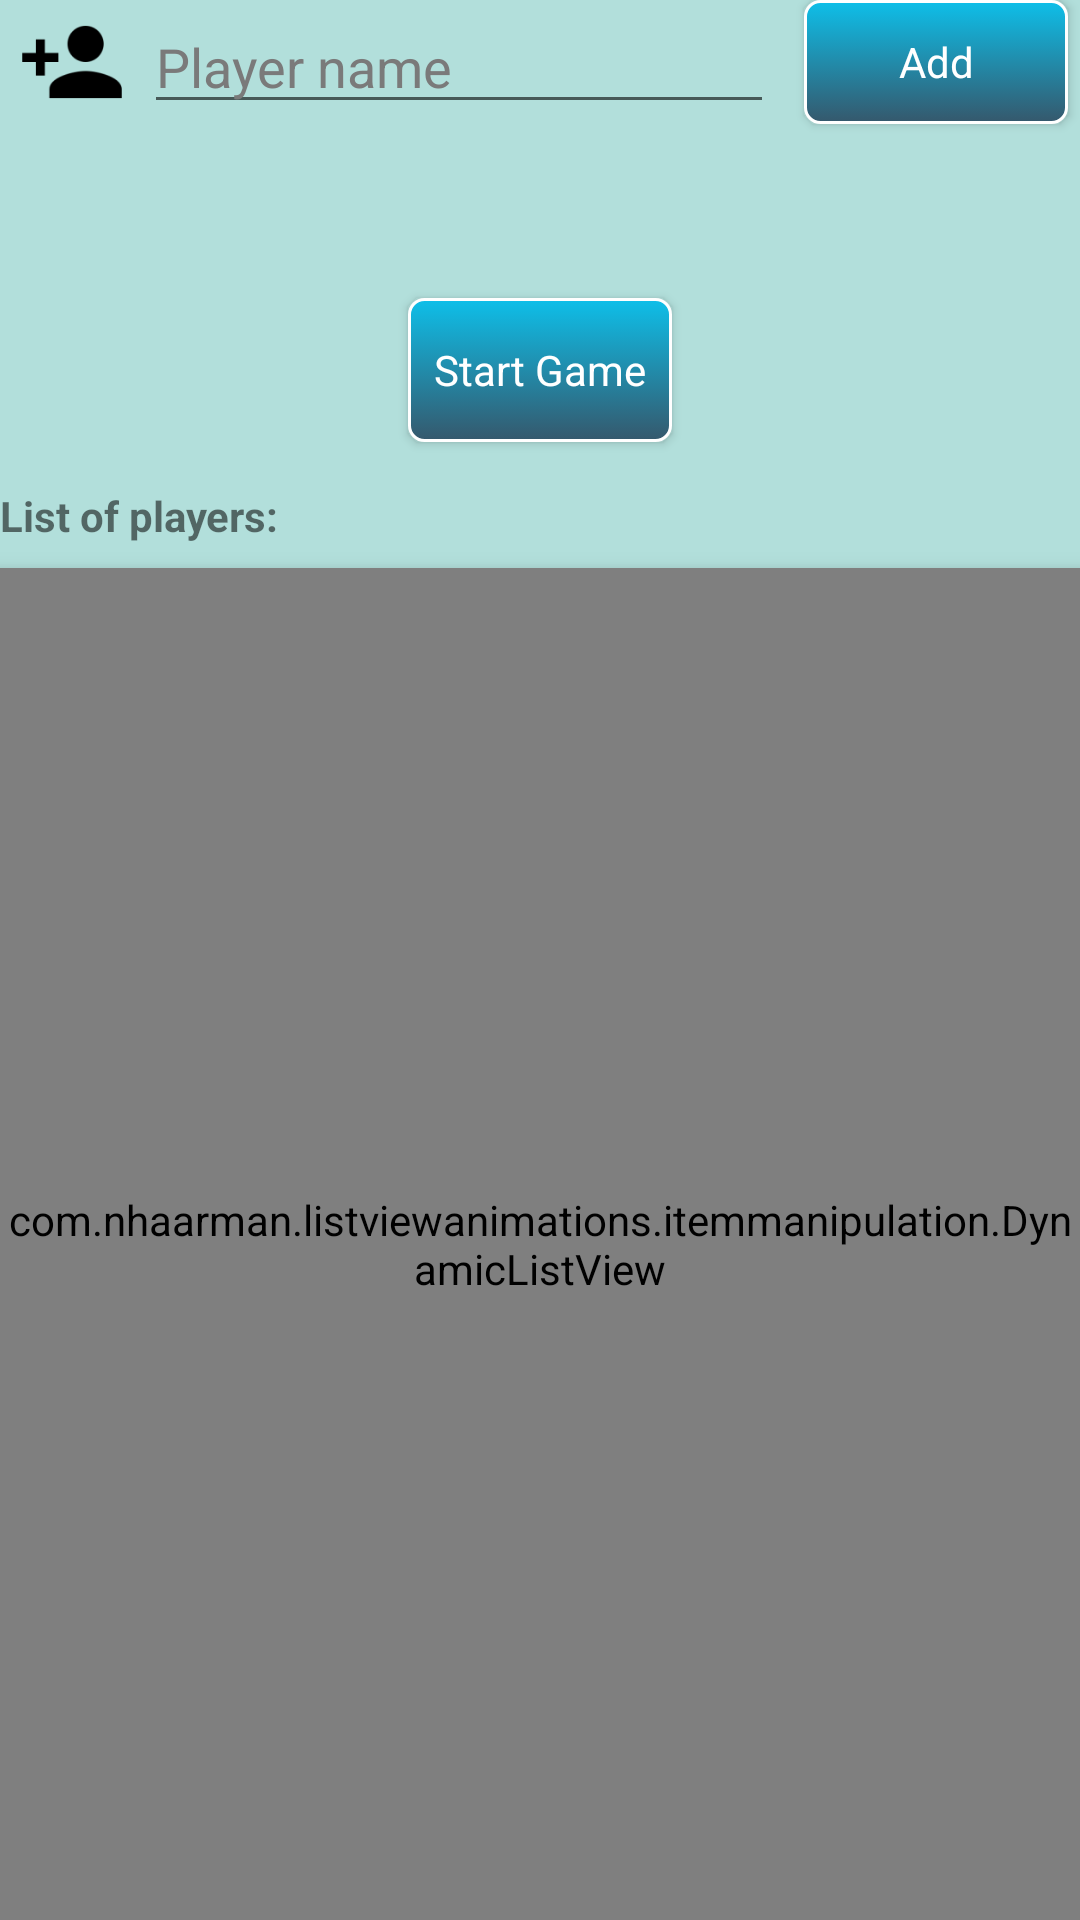

Screen size 1080×1920. Icon name, then its center in pixels as (x=x, y=y):
person add: (x=72, y=62)
